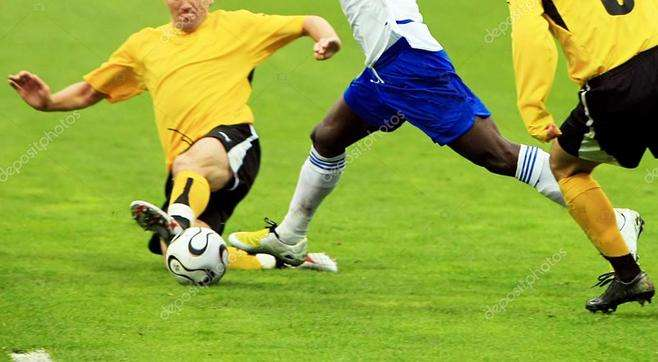football: (167, 226, 228, 286)
